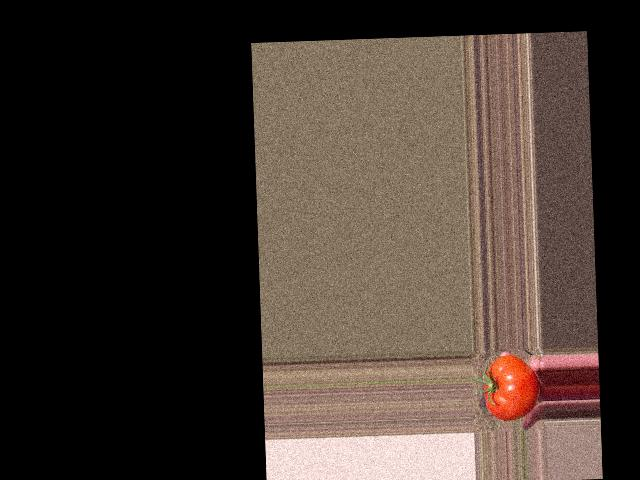tomato: (482, 354, 540, 421)
